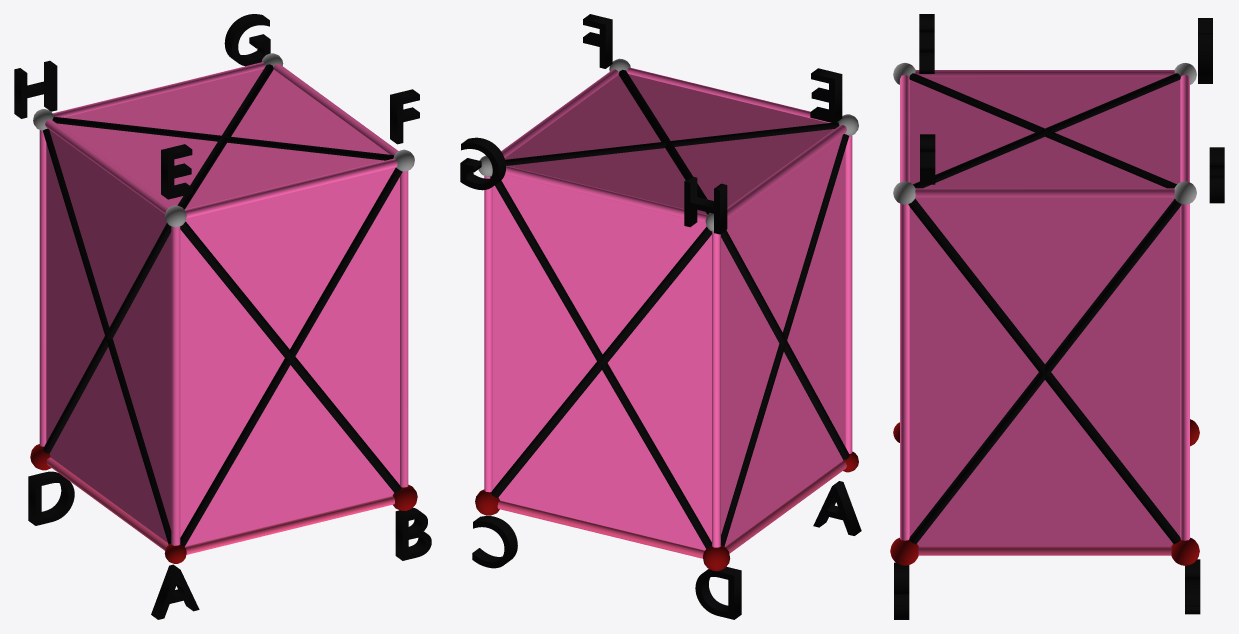
The model's file is res_10296.glb.
3 renders of one model, left to right at view 1: azimuth 30°, elevation 25°; view 2: azimuth 150°, elevation 25°; view 3: azimuth 270°, elevation 25°, orthographic. The views are drawn at different scales.
Visible parts, largest first — view 1: imagetostl_mesh12, Text.003, Text.007, Text.001, Text.006, Text.004, Text, Text.005; view 2: imagetostl_mesh12, Text.003, Text.007, Text.006, Text.004, Text.002, Text, Text.005; view 3: imagetostl_mesh12, Text.007, Text.004, Text.006, Text.001, Text.002, Text.005.
Boxes of the visible parts, x1=… form: imagetostl_mesh12: x1=30, y1=53, x2=417, y2=563; Text.003: x1=28, y1=471, x2=74, y2=525; Text.007: x1=14, y1=60, x2=57, y2=118; Text.001: x1=395, y1=508, x2=431, y2=560; Text.006: x1=224, y1=14, x2=270, y2=66; Text.004: x1=161, y1=144, x2=192, y2=199; Text: x1=151, y1=564, x2=199, y2=619; Text.005: x1=390, y1=89, x2=419, y2=144; imagetostl_mesh12: x1=475, y1=58, x2=858, y2=571; Text.003: x1=695, y1=566, x2=741, y2=619; Text.007: x1=684, y1=176, x2=727, y2=234; Text.006: x1=460, y1=137, x2=505, y2=190; Text.004: x1=810, y1=68, x2=842, y2=123; Text.002: x1=472, y1=516, x2=517, y2=568; Text: x1=813, y1=481, x2=861, y2=535; Text.005: x1=583, y1=14, x2=612, y2=68; imagetostl_mesh12: x1=890, y1=63, x2=1199, y2=565; Text.007: x1=1198, y1=18, x2=1212, y2=83; Text.004: x1=919, y1=14, x2=934, y2=73; Text.006: x1=1209, y1=147, x2=1224, y2=203; Text.001: x1=894, y1=562, x2=909, y2=619; Text.002: x1=1185, y1=559, x2=1200, y2=614; Text.005: x1=920, y1=134, x2=935, y2=184.
Size of the model in its own units: 1.17 by 1.92 by 1.19.
